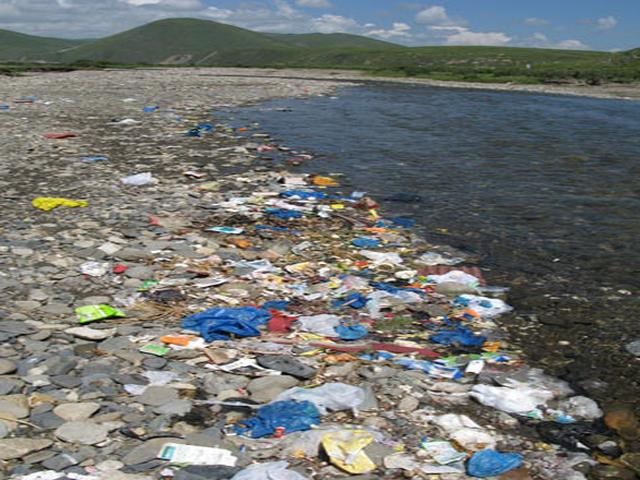garbage: (209, 178, 345, 477)
